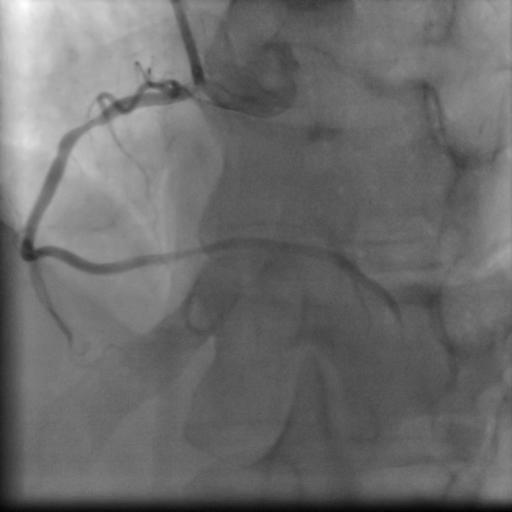Stenosis: (75, 111, 106, 130)
